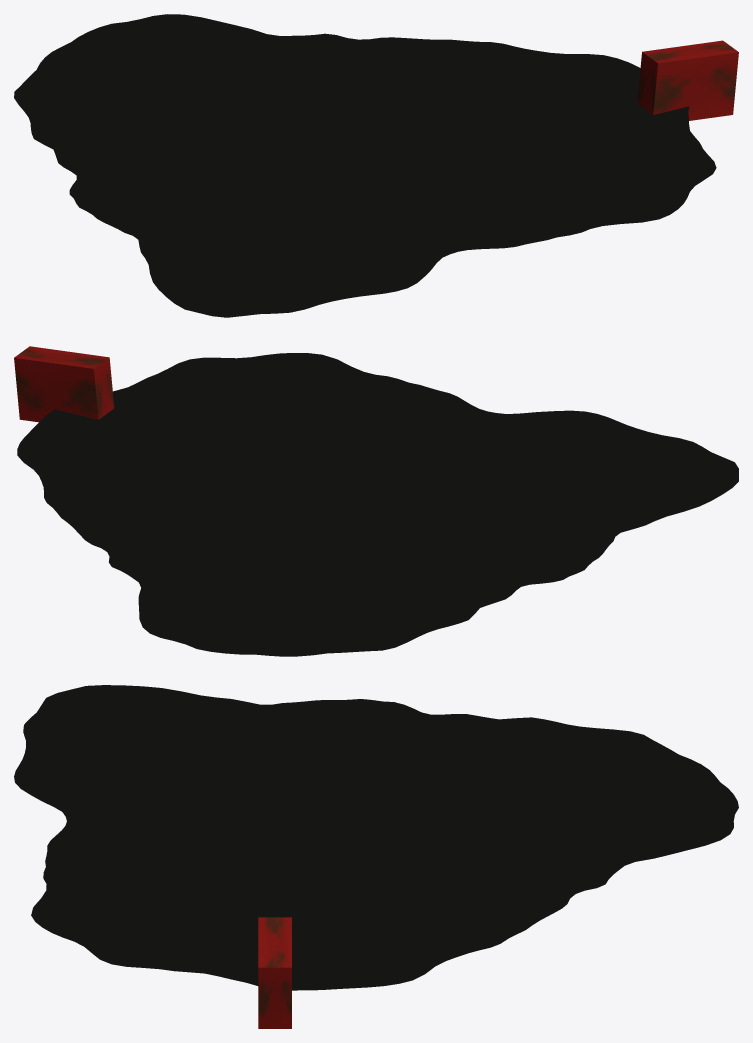
The model's file is puddle_L2.glb.
The picture shows the model from 3 angles, top to bottom: view 1: azimuth 30°, elevation 25°; view 2: azimuth 150°, elevation 25°; view 3: azimuth 270°, elevation 25°; orthographic projection. The views are drawn at different scales.
Parts seen in each view (by area): view 1: puddle, jerrycan; view 2: puddle, jerrycan; view 3: puddle, jerrycan.
Boxes of the visible parts, x1,y1,x2,y2 form: puddle: (14,14,716,317); jerrycan: (637,40,738,120); puddle: (17,353,738,656); jerrycan: (14,346,114,422); puddle: (14,685,738,990); jerrycan: (258,917,291,1028).
Size of the model in its own units: 3.69 by 0.3852 by 3.46.
Materials: 2 (1 with a texture image).
